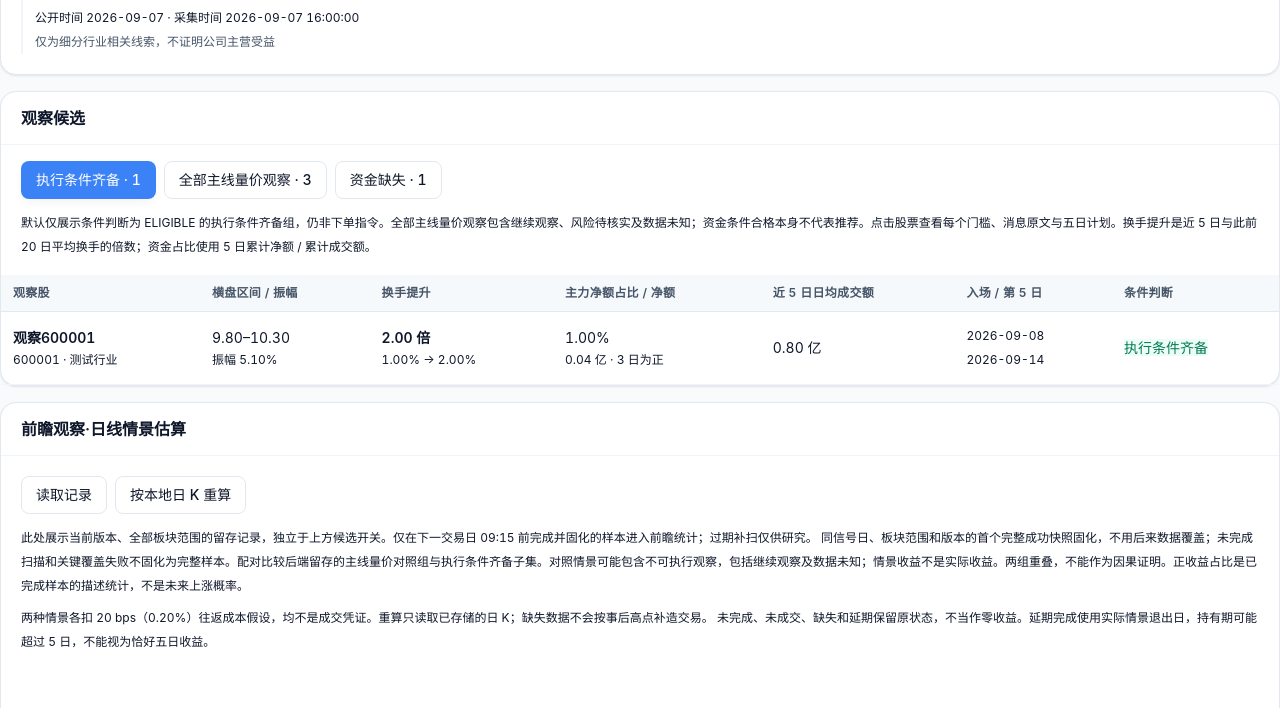
Scenario: FiveDayPage observation workflow › shows independent execution failures and can retry without acquiring an attestation
(page scrolled)
Click the row that starts with "观察600001": [640, 348] box [1,312,1279,384]
(page scrolled)
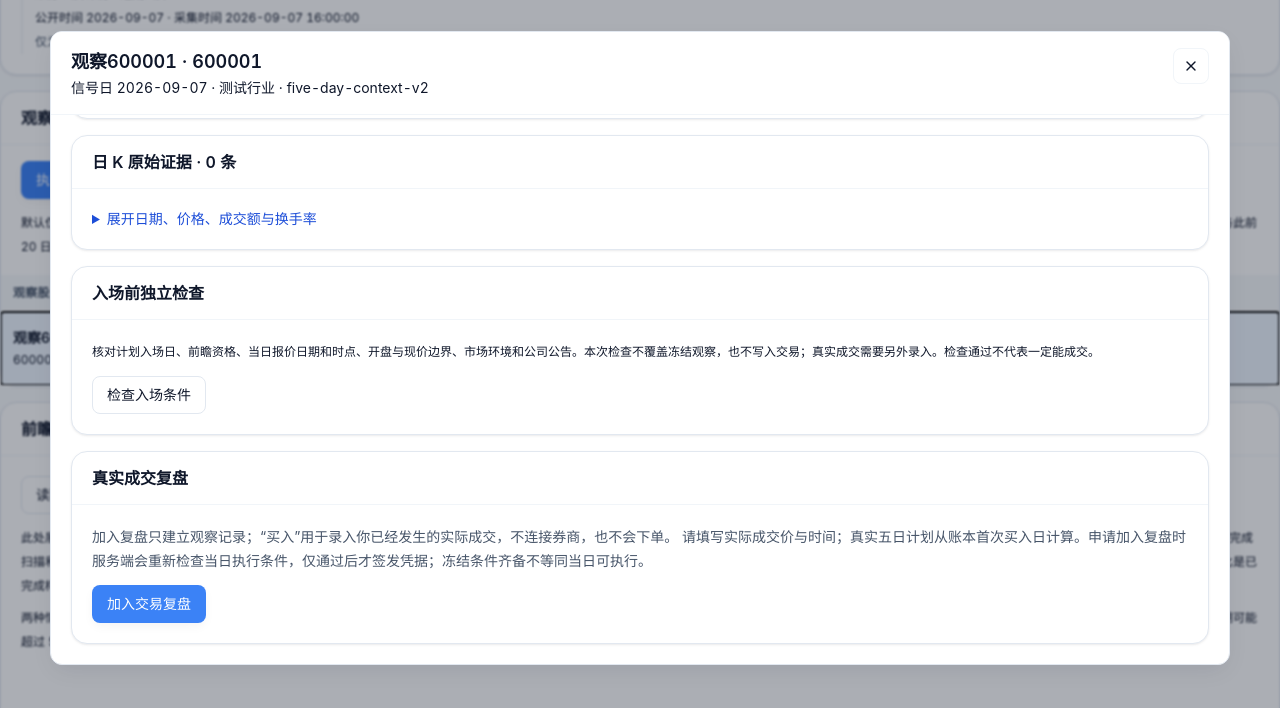
Check: the button "检查入场条件" is shown
Click the button "检查入场条件": [149, 395] box [92,376,206,414]
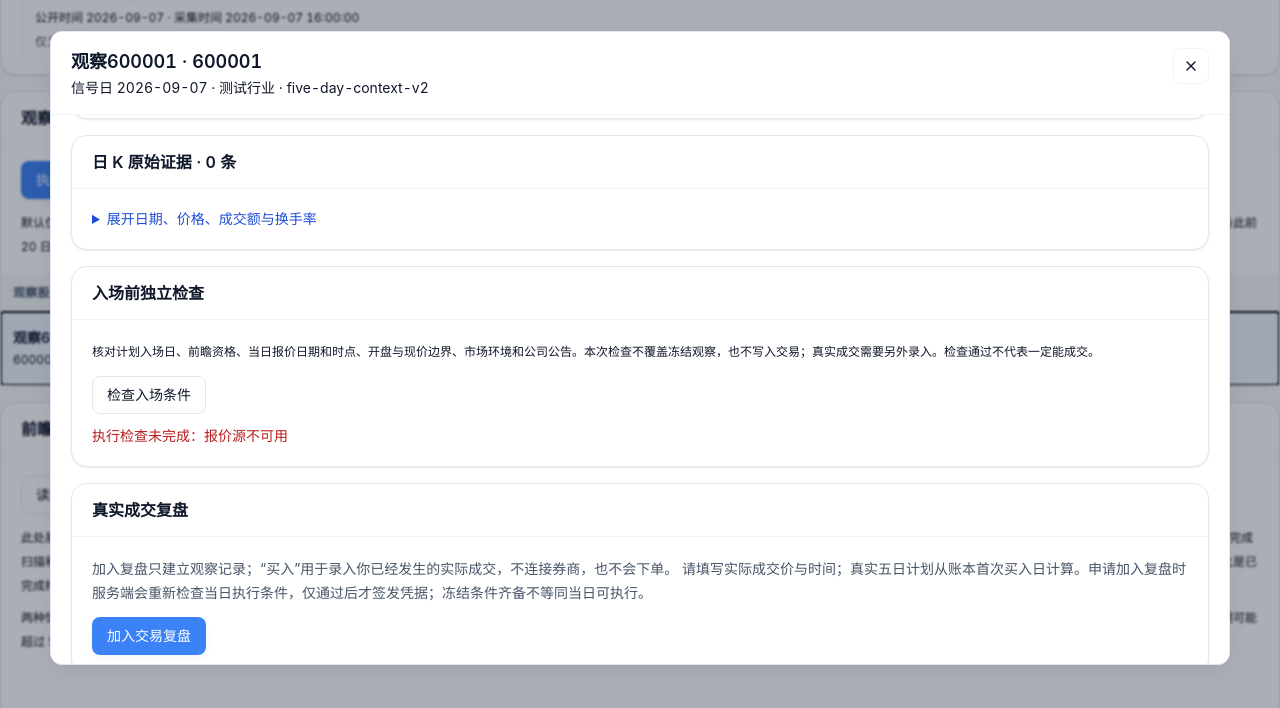
Check: the button "检查入场条件" is shown
Check: the text "执行检查未完成：报价源不可用" is shown, box [92,427,288,444]
Click the button "检查入场条件": [149, 395] box [92,376,206,414]
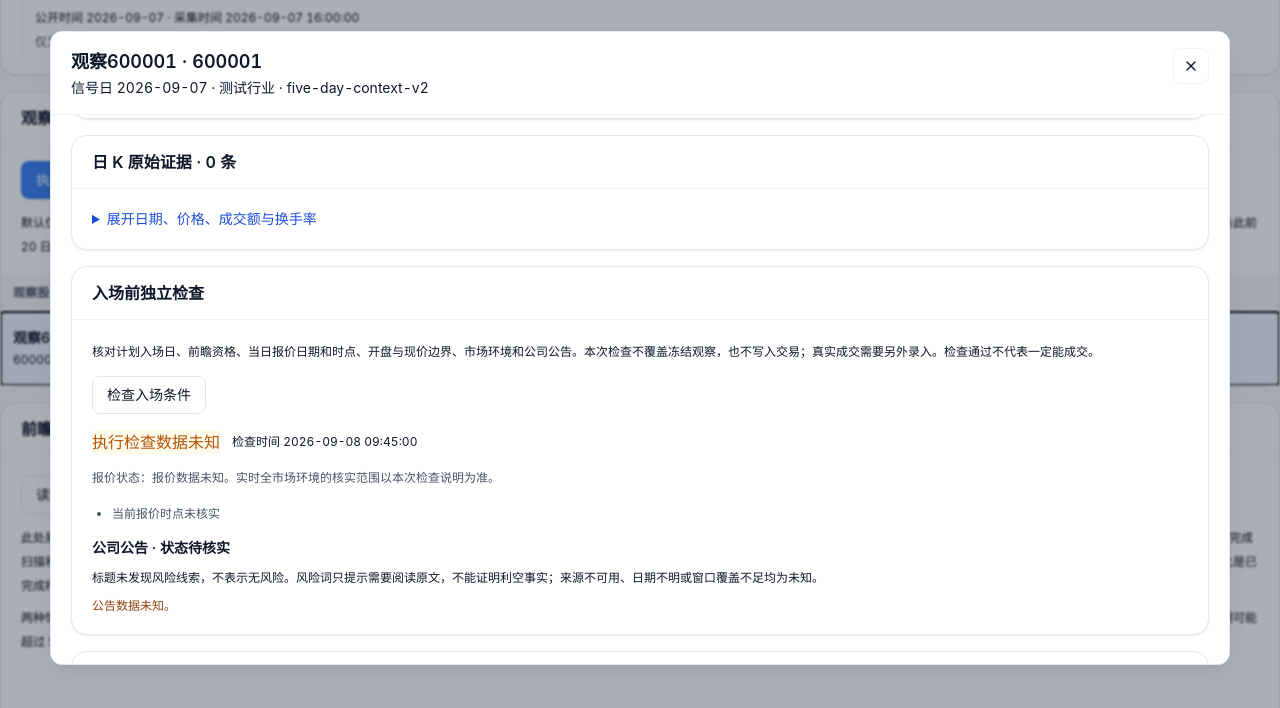
Check: the text "执行检查数据未知" is shown, box [92,430,220,454]
Check: the text "当前报价时点未核实" is shown, box [112,506,220,521]
